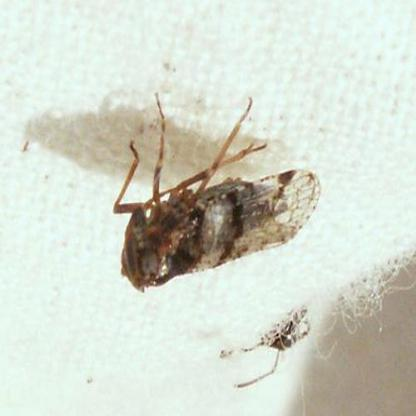brown-planthopper: (116, 171, 320, 294)
